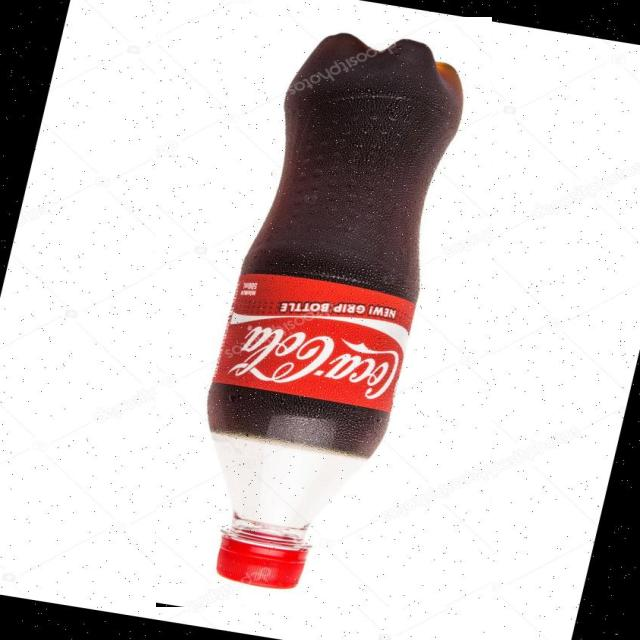coca-cola: (156, 17, 492, 607)
